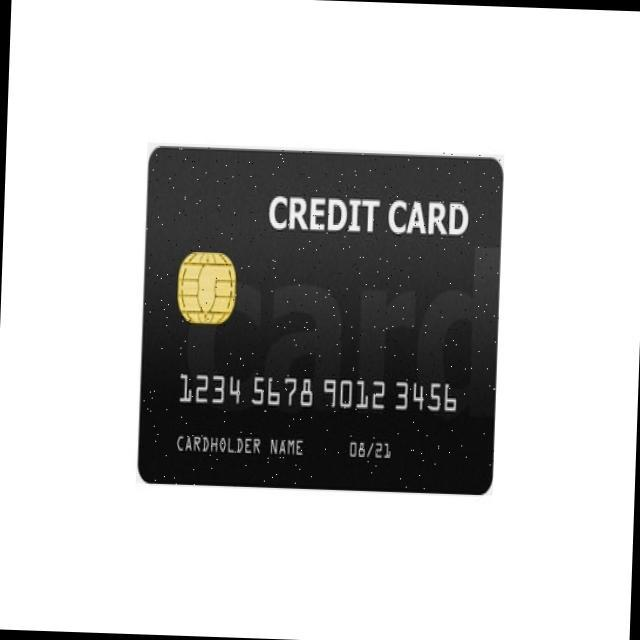payment_card: (137, 144, 503, 494)
